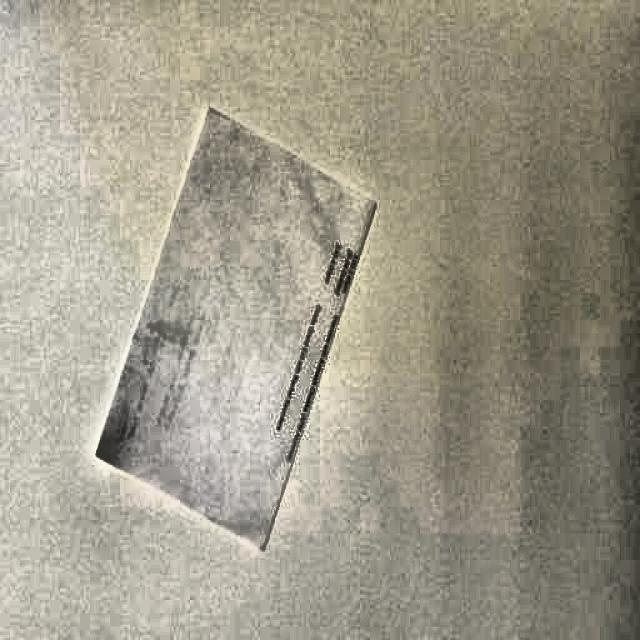paper: (94, 103, 376, 568)
